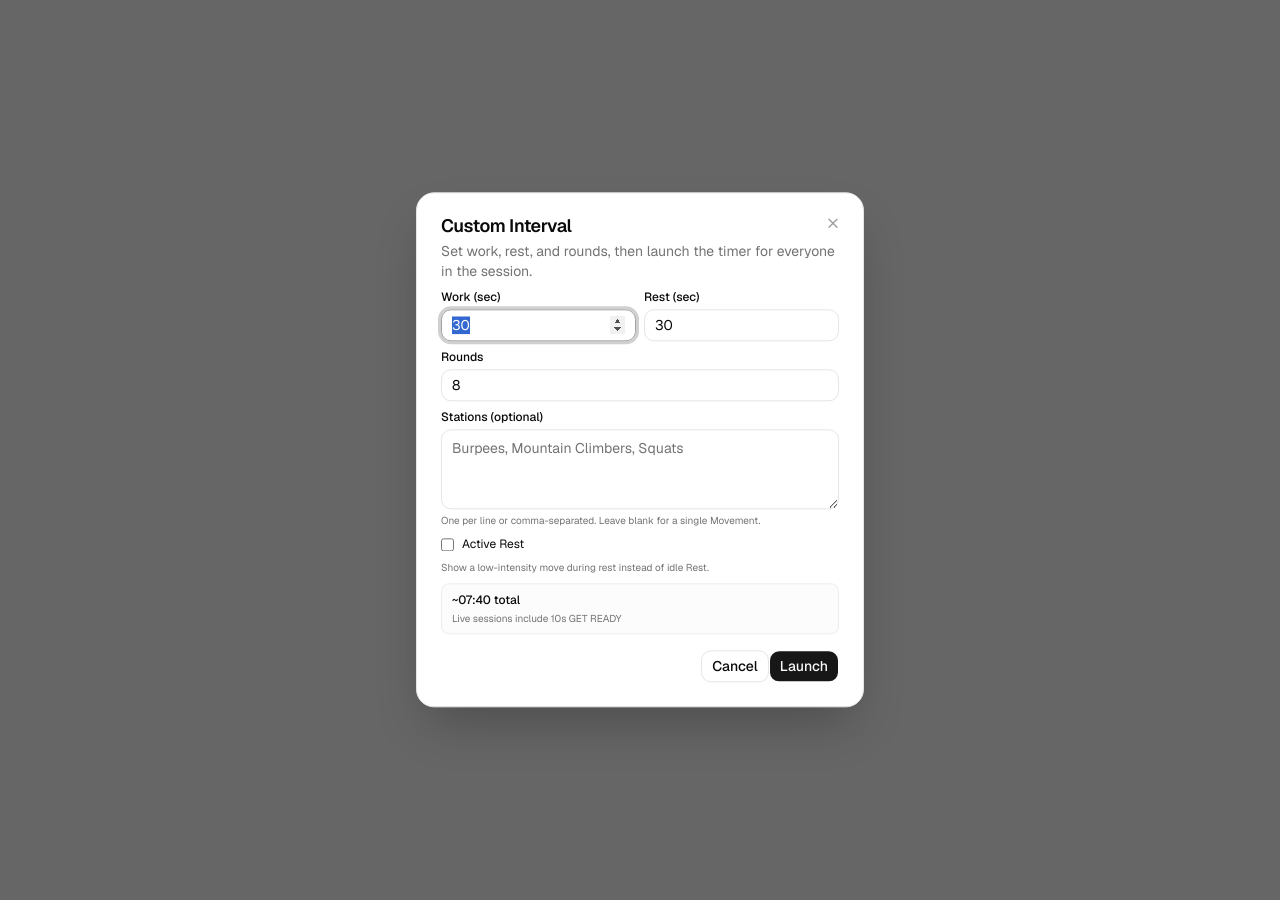
Test: CustomIntervalLaunchDialog › shows Rest between rounds toggle with ≥2 stations and hides seconds until toggled
The width and height of the screenshot is (1280, 900).
Type "Burpees, Mountain Climbers" into the text box with test id "custom-interval-stations-input" at [640, 469], box top-left (441, 429), bottom-right (839, 509)
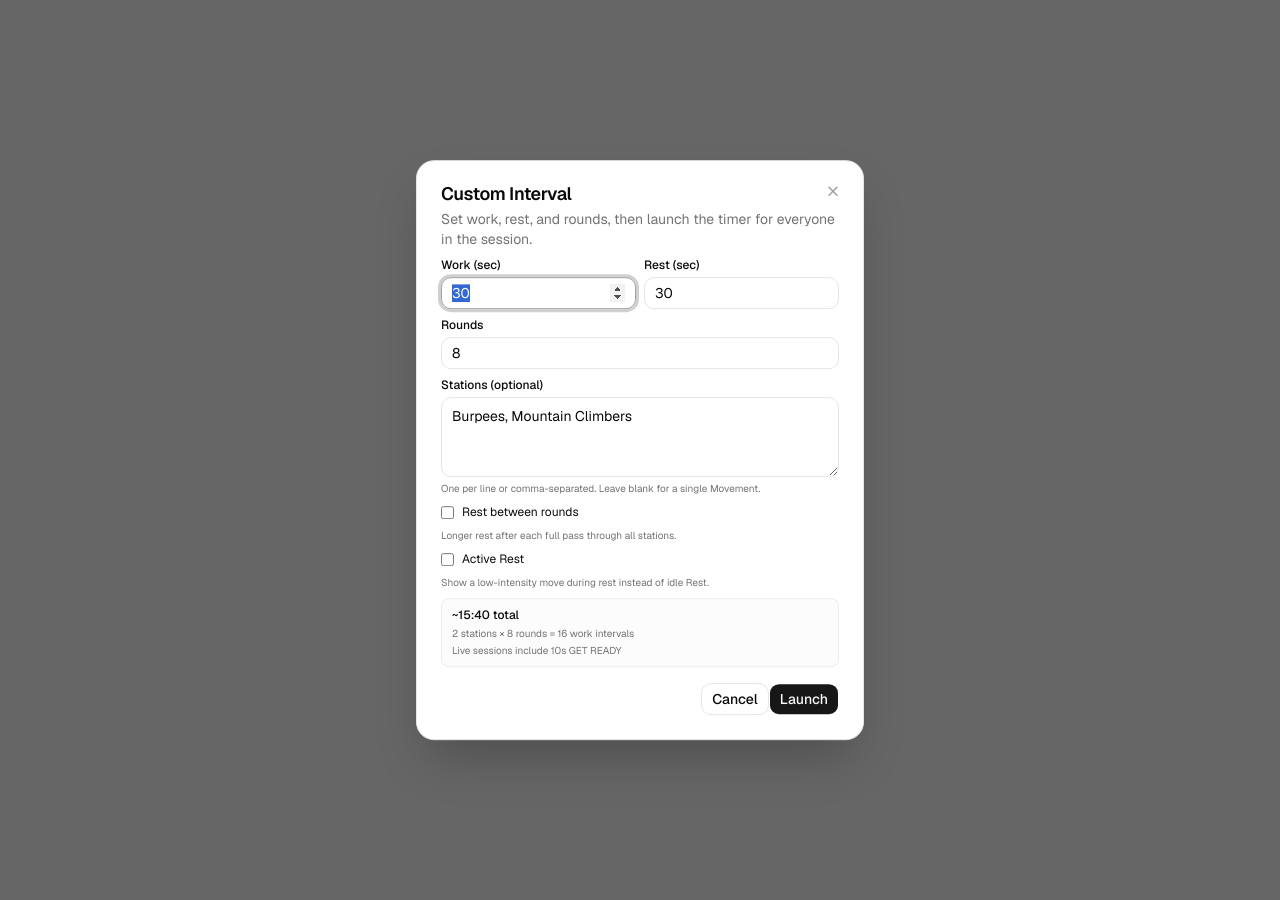
Expected: the checkbox with test id "custom-interval-round-rest-toggle" is shown
Click the checkbox with test id "custom-interval-round-rest-toggle" at [448, 512], box top-left (441, 506), bottom-right (454, 519)
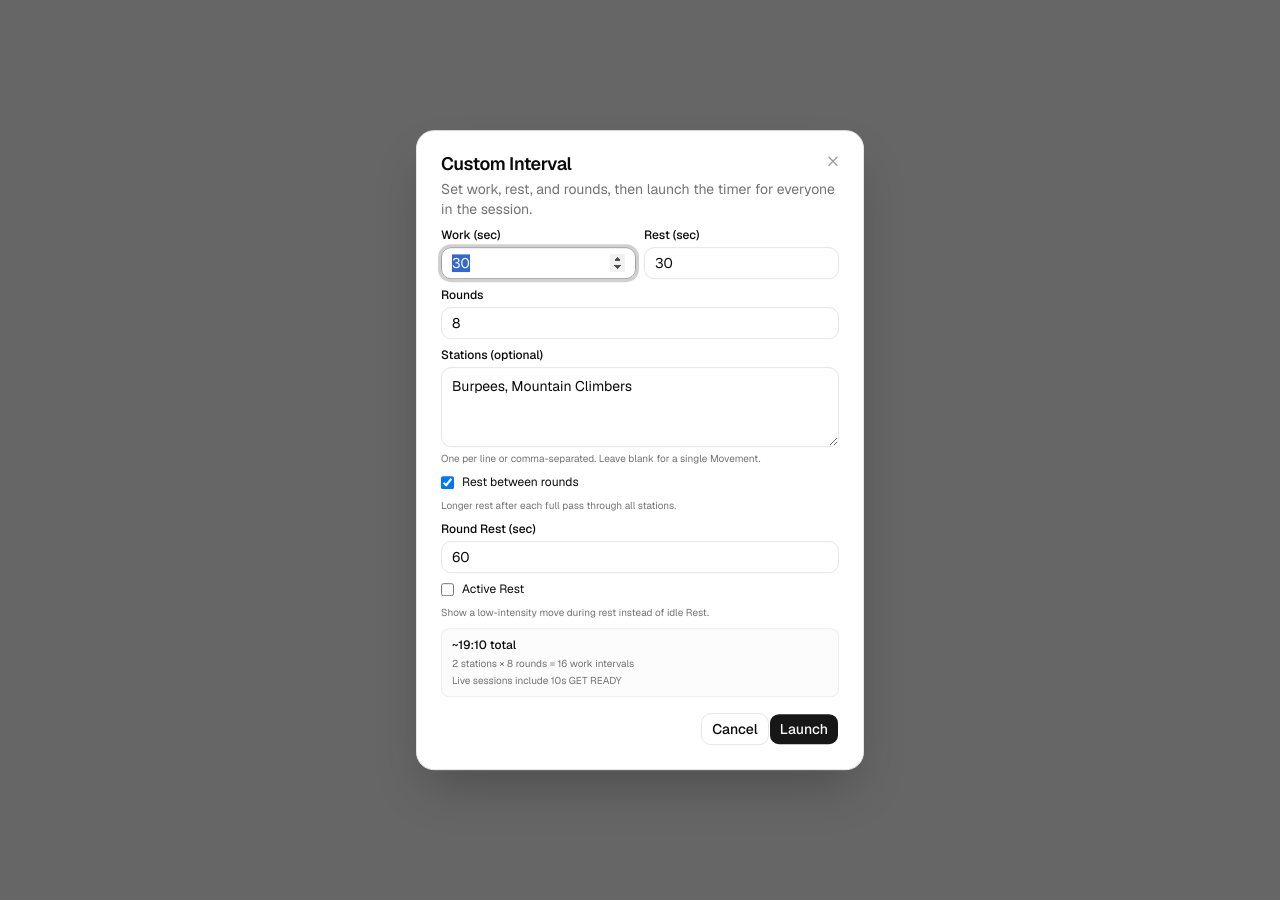
Expected: the number field with test id "custom-interval-round-rest-input" holds "60", top-left (441, 541), bottom-right (839, 573)
